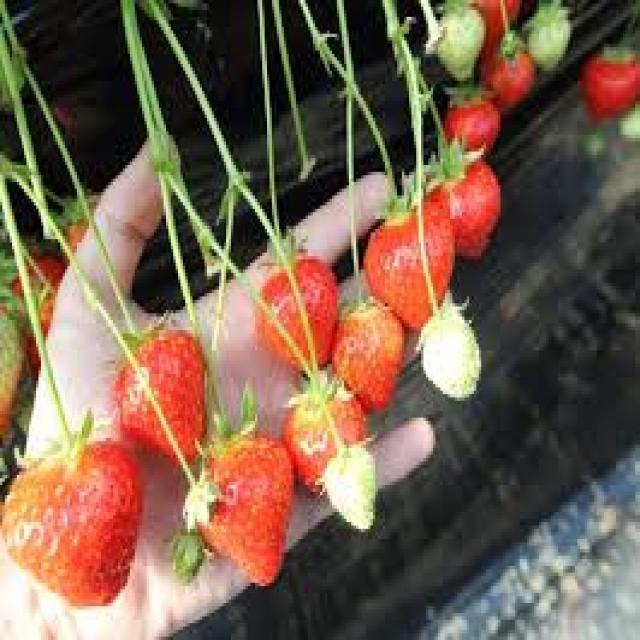strawberry: (2, 426, 151, 609), (195, 388, 292, 589), (104, 323, 210, 461), (248, 241, 332, 370), (360, 212, 452, 326), (339, 300, 405, 414)
